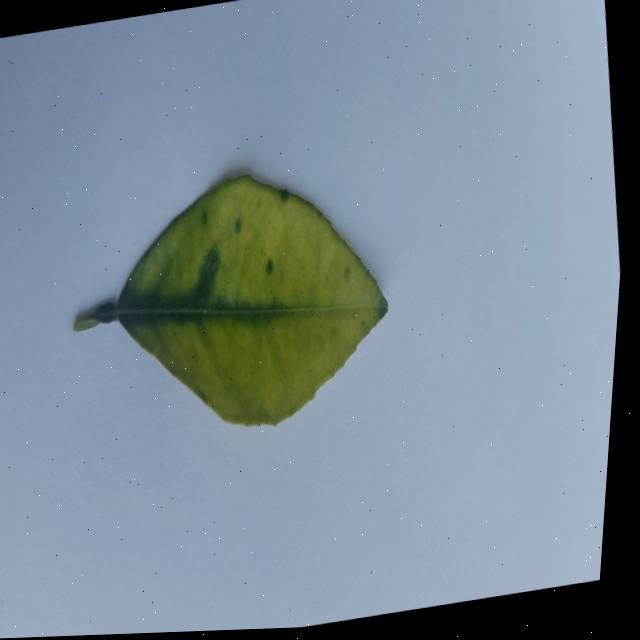greening: (74, 174, 387, 424)
